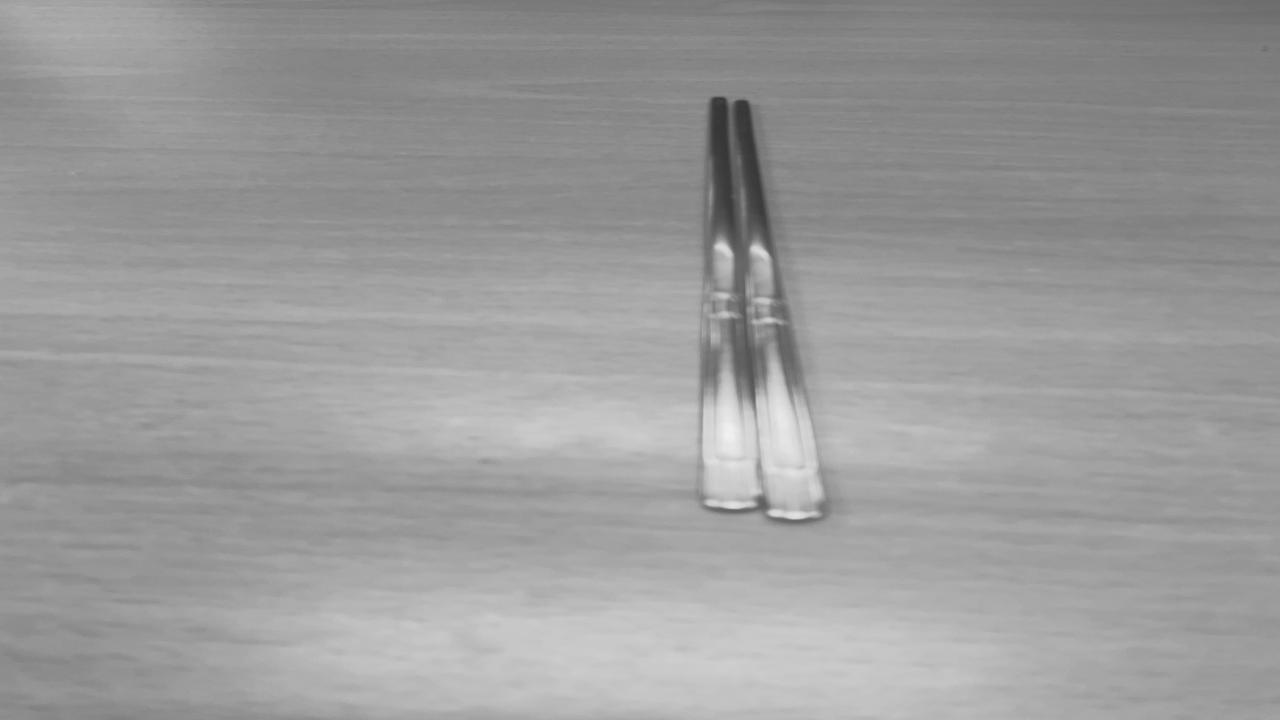chopstick: (707, 97, 823, 519)
